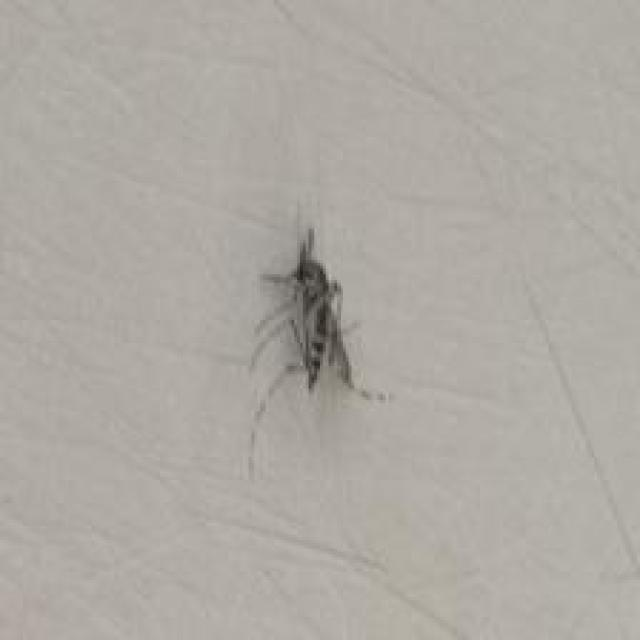Aedes albopictus: (244, 224, 390, 479)
